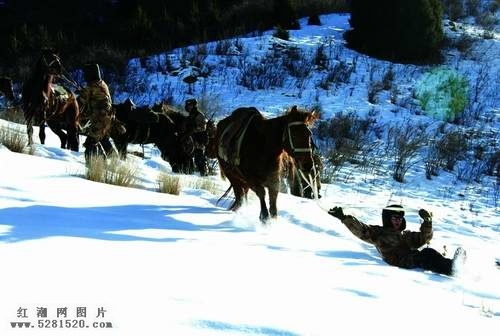falling: (326, 192, 471, 279)
